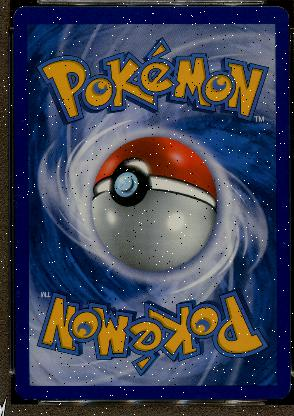Card: (14, 5, 290, 401)
Corner Wear: (15, 385, 37, 401), (273, 380, 289, 400), (13, 5, 25, 22)
Scratch: (14, 192, 25, 220), (15, 314, 24, 340), (81, 386, 106, 392), (193, 392, 207, 400), (15, 288, 21, 298), (19, 116, 25, 124), (14, 238, 19, 244), (50, 18, 56, 22), (282, 241, 285, 245), (280, 205, 283, 209)
